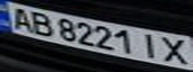1: (112, 26, 136, 55)
2: (90, 24, 115, 53), (72, 19, 96, 47)
8: (54, 16, 78, 43)
A: (3, 4, 36, 32)
B: (24, 9, 57, 37)
I: (136, 30, 163, 61)
X: (157, 34, 193, 66)
